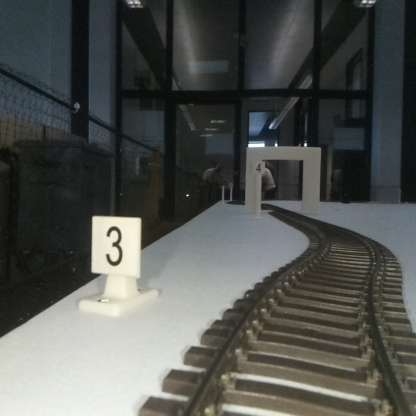white-info-4: (253, 161, 265, 218)
white-stop-3: (91, 217, 140, 311)
